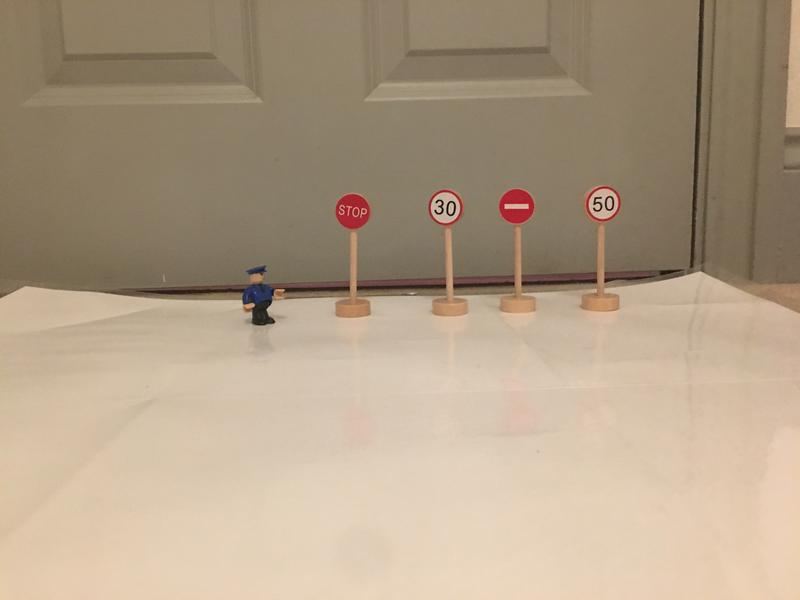Traffic_Sign_30: (430, 190, 463, 226)
Traffic_Sign_50: (587, 187, 620, 221)
Traffic_Sign_No_Entry: (498, 190, 535, 225)
Traffic_Sign_Stop: (337, 194, 370, 229)
person: (241, 266, 285, 326)
